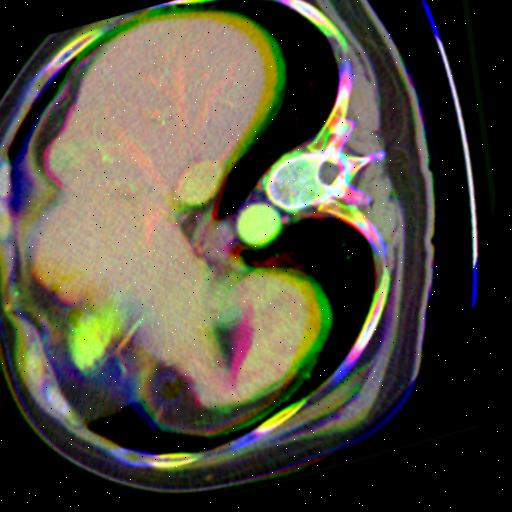Tumor: (178, 162, 223, 210)
